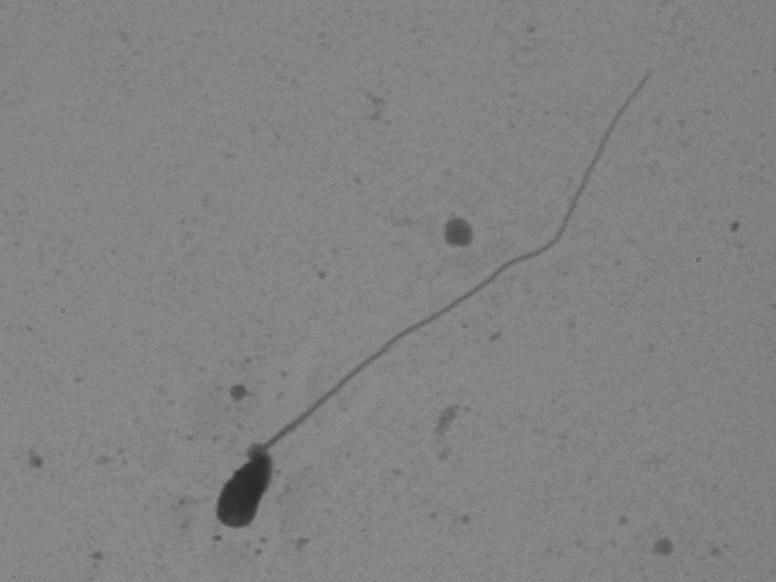Abnormal: (194, 37, 662, 551)
